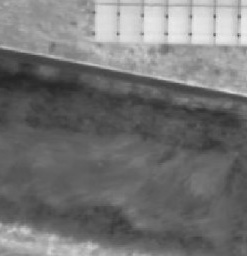solar: (92, 2, 120, 43), (116, 2, 144, 43), (140, 2, 168, 43), (164, 3, 192, 44), (188, 3, 216, 44), (212, 3, 240, 44)
